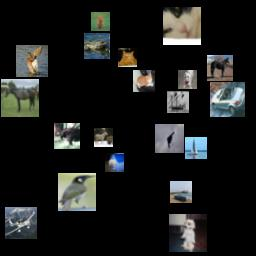airplane: (5, 207, 37, 239), (155, 124, 184, 153)
automobile: (210, 82, 245, 117), (170, 181, 192, 203)
bird: (58, 173, 96, 211), (16, 45, 48, 77)
cat: (163, 7, 201, 45), (133, 70, 155, 92), (118, 48, 137, 67)
deer: (54, 123, 80, 149), (91, 12, 110, 31)
dog: (169, 214, 207, 252), (178, 70, 197, 89), (105, 153, 124, 172)
frog: (84, 33, 110, 59)
ship: (185, 137, 207, 159), (167, 91, 189, 113)
